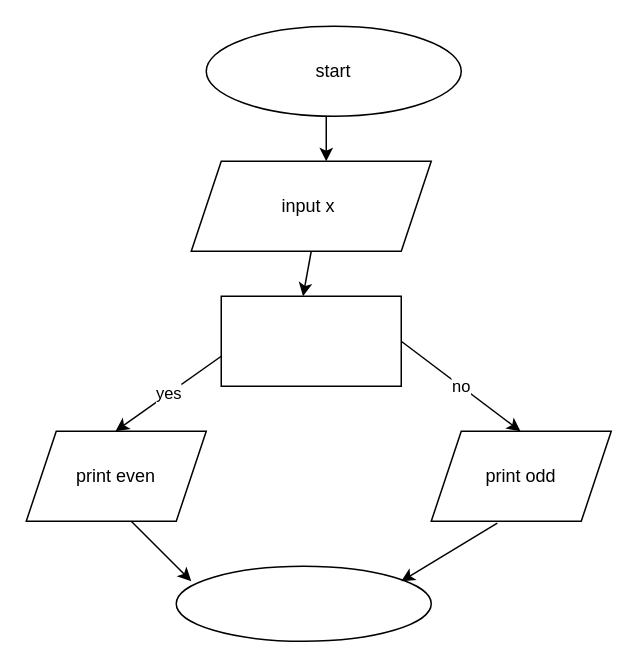
Some shapes in this 638 by 668 pixel diagram are drawn without their labels. Each missing label, with the centre of its shape:
end: [303,603]
process x/2==0: [310,340]
